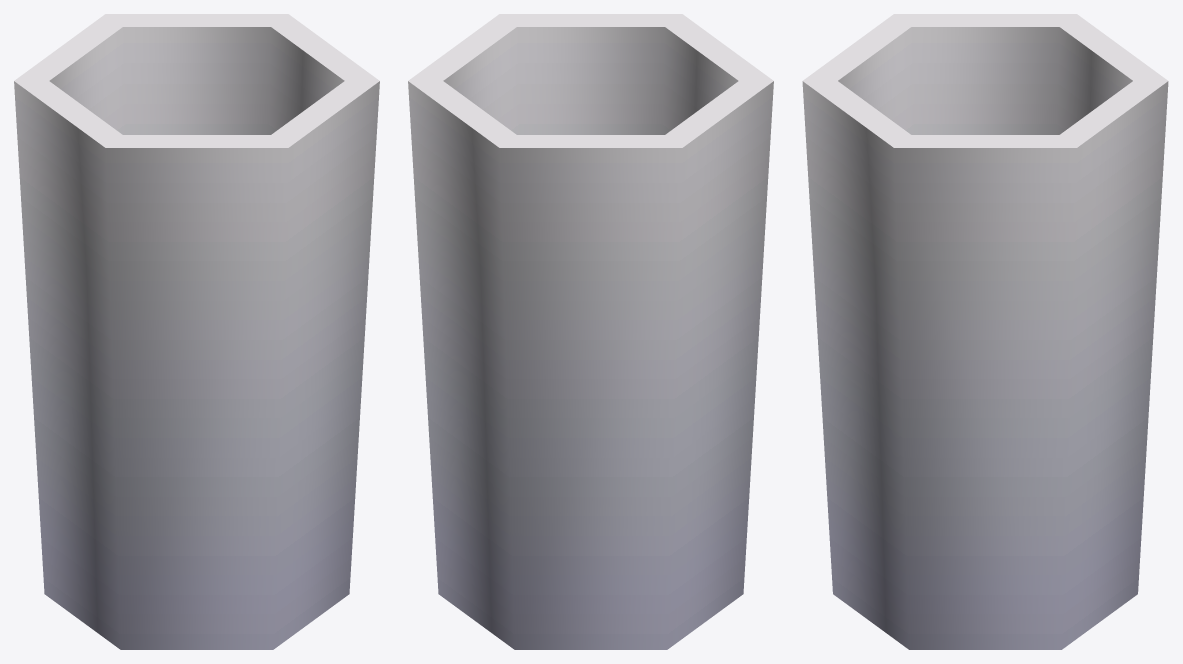
Rendered from glass.89b7843947.glb.
The picture shows the model from 3 angles, left to right: view 1: azimuth 30°, elevation 25°; view 2: azimuth 150°, elevation 25°; view 3: azimuth 270°, elevation 25°; orthographic projection.
Visible parts, largest first — view 1: glass; view 2: glass; view 3: glass.
Boxes of the visible parts, x1=… form: glass: x1=14, y1=14, x2=379, y2=649; glass: x1=408, y1=14, x2=773, y2=649; glass: x1=802, y1=14, x2=1168, y2=649.
Size of the model in its own units: 0.1596 by 0.2851 by 0.1843.
1 material, 1 textured.
